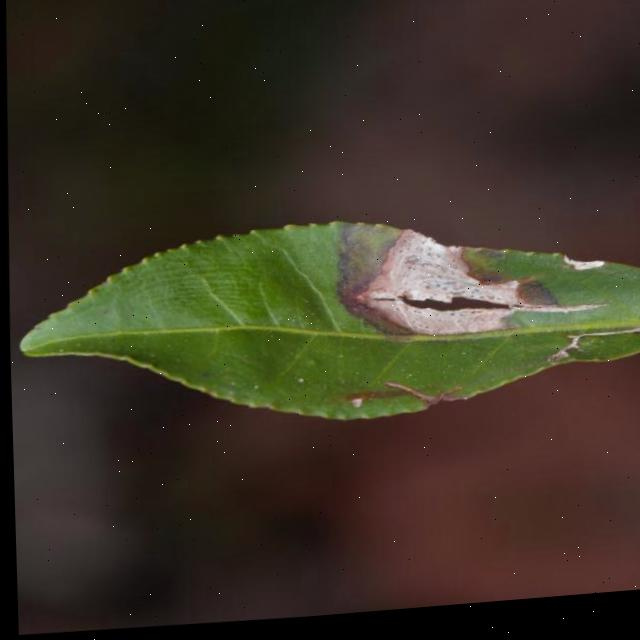Tea cloud leaf blight: (322, 204, 571, 355)
